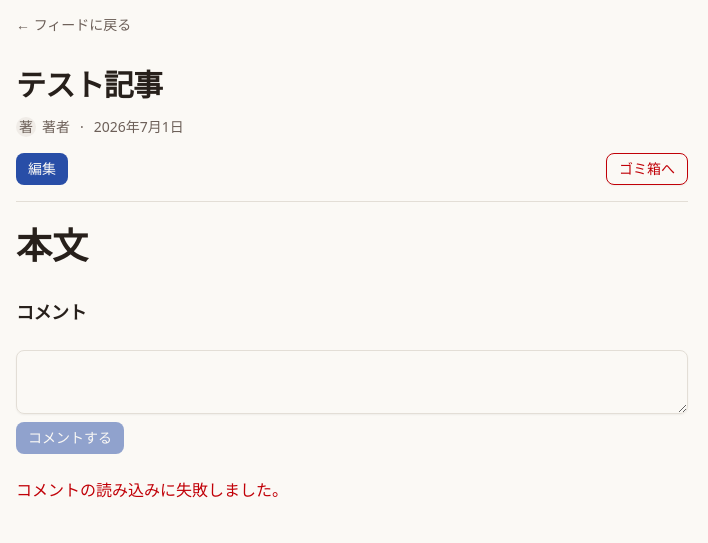
Scenario: ArticleDetailPage › 削除がネットワーク例外でもエラーメッセージを表示してページに留まる（M-5）
Click the button "ゴミ箱へ" at (647, 169), box [606,153,688,185]
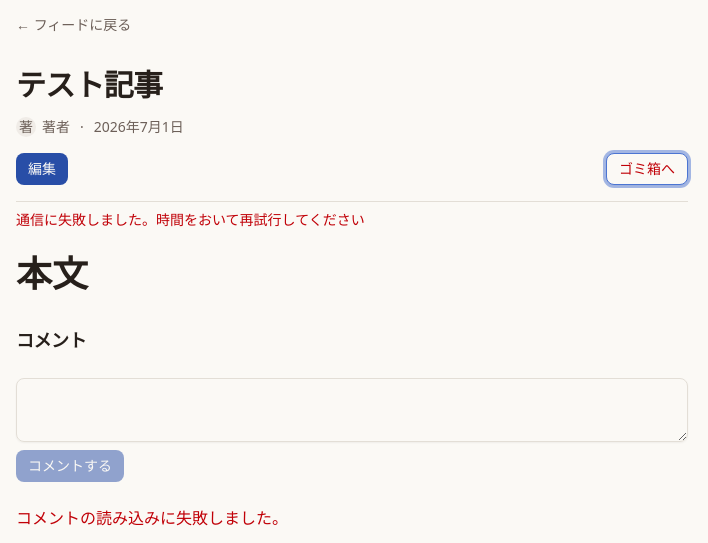
Expected: the heading "テスト記事" is shown, [16,64,162,105]
Result: the text "通信に失敗しました。時間をおいて再試行してください" is shown at [16,210,365,229]
